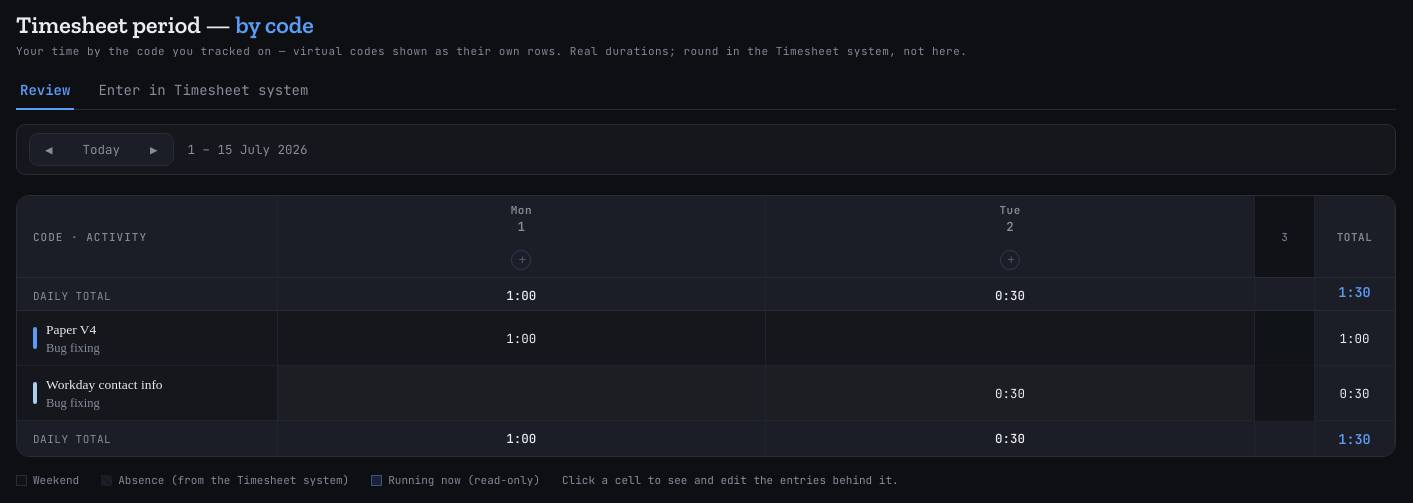
Scenario: PeriodScreen — mode toggle › switches to Enter in Timesheet system and shows its mode-specific controls
Click the button "Enter in Timesheet system" at (203, 91), box 94,72 -> 312,110
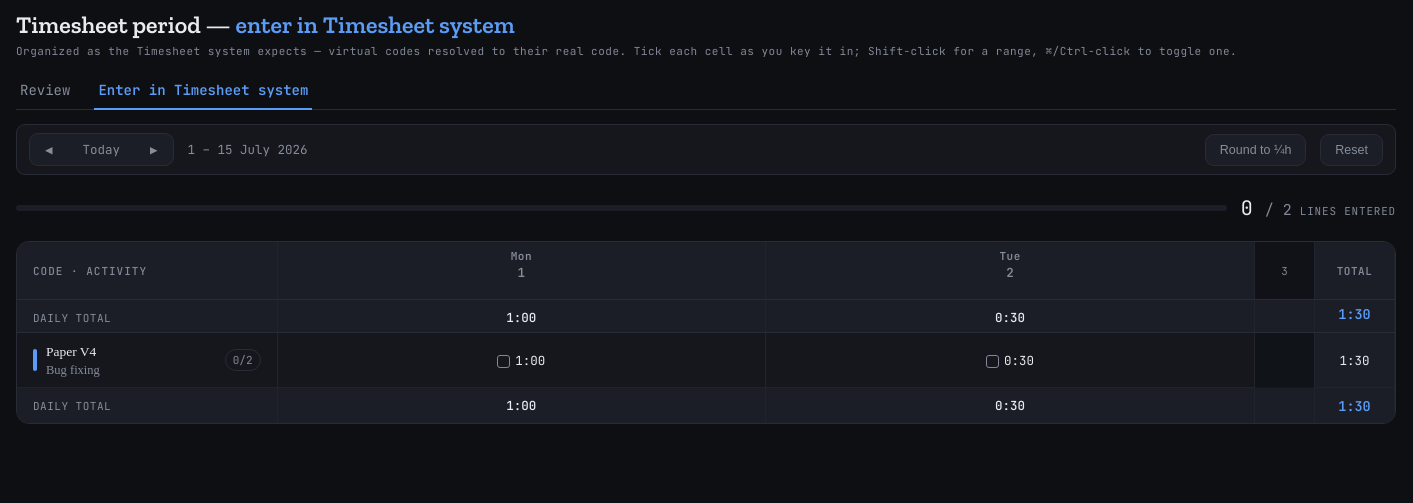
Expected: the button with test id "wk-period-add-1" is gone
Expected: the text "lines entered" is shown, 1300,204 -> 1396,218
Expected: the button "Reset" is shown, 1320,134 -> 1383,166
